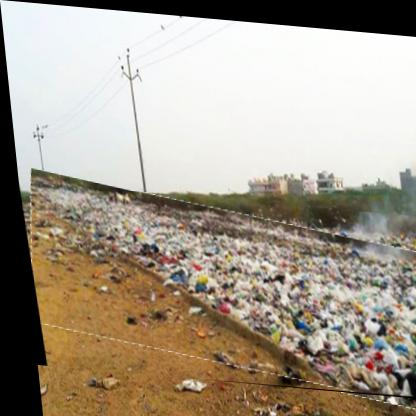Garbage: (15, 181, 416, 397)
